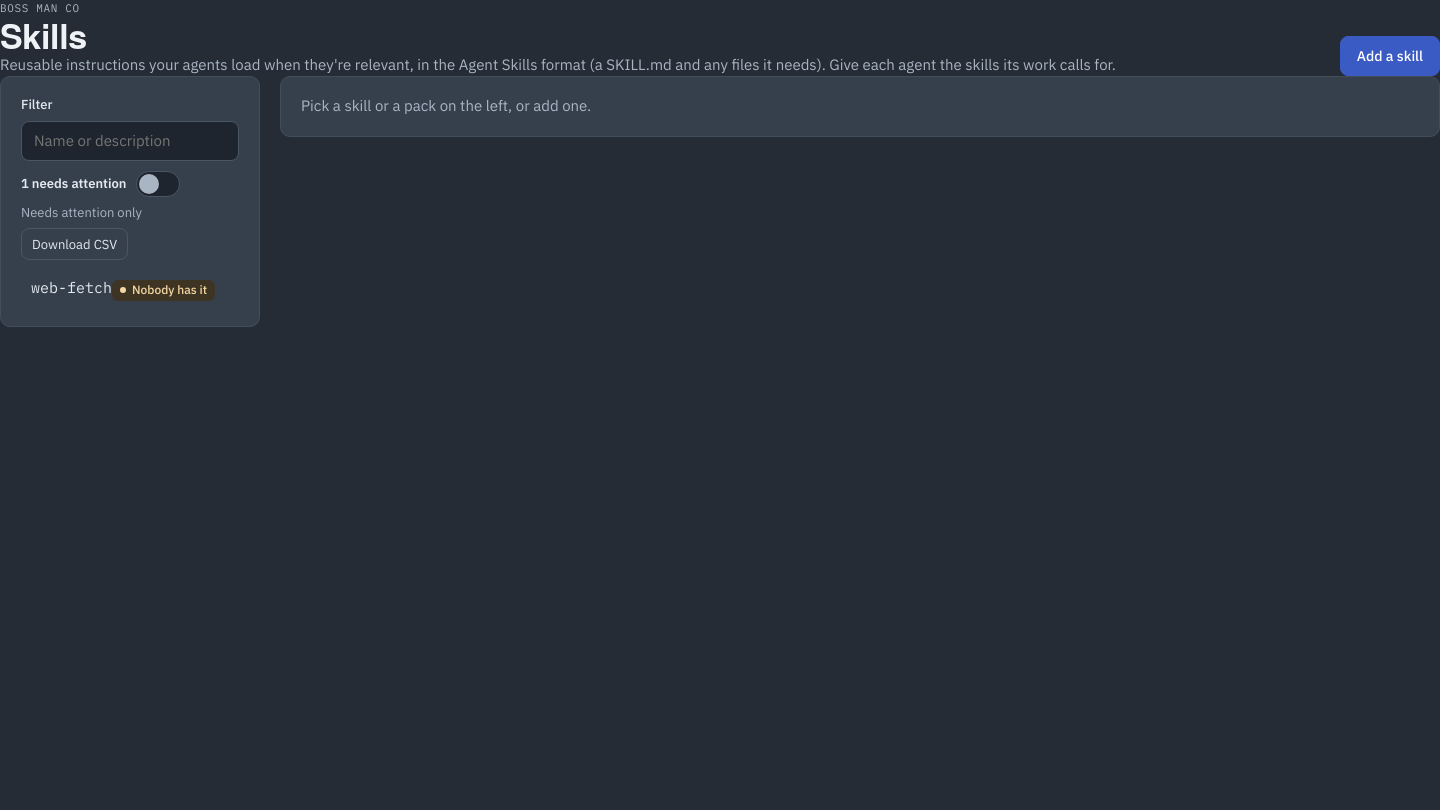
it: skills › asks before replacing real instructions with an empty box, and sends confirmation only when allowed
Click the link "web-fetch Nobody has it": (123, 290) [31,278,215,301]
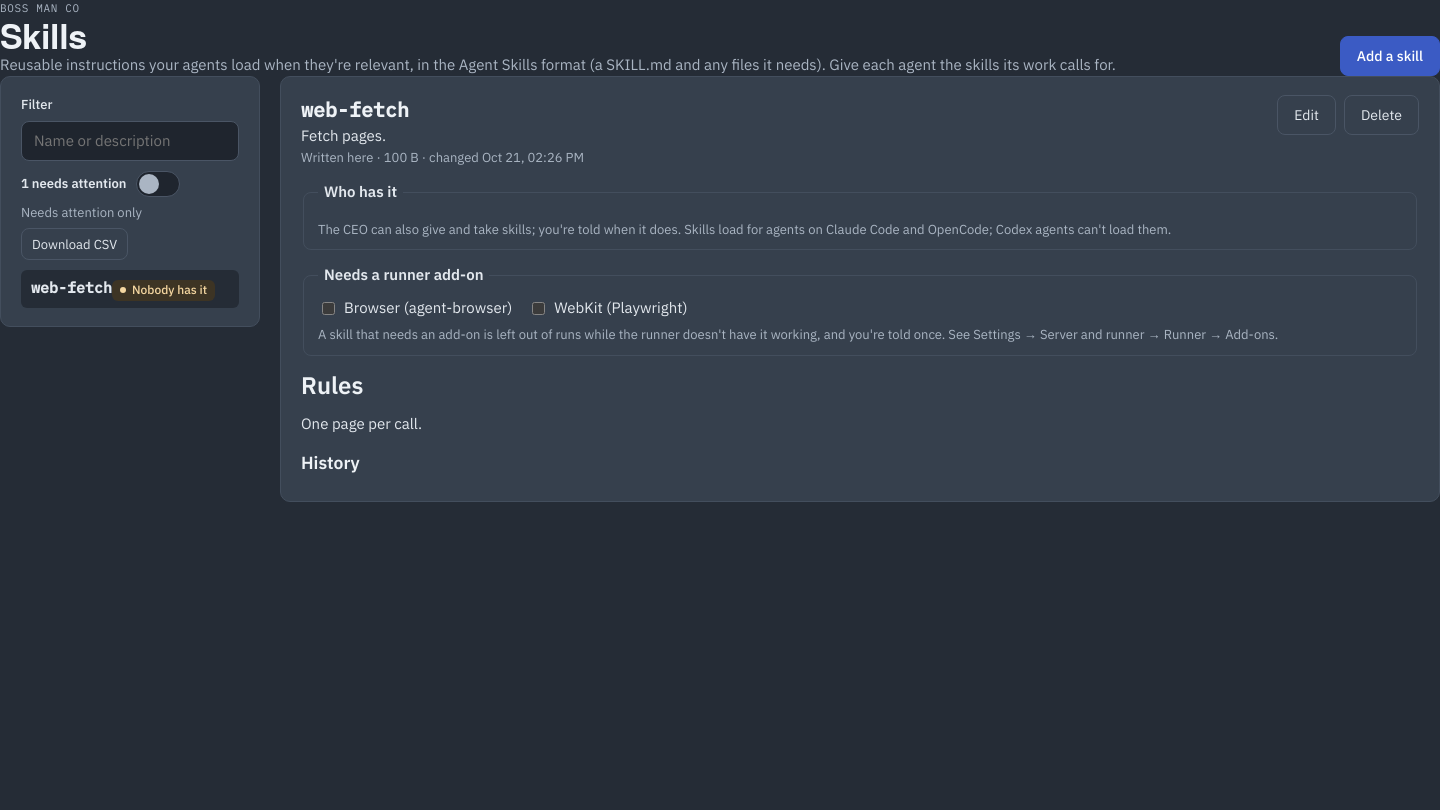
Click the button "Edit": (1307, 115) [1277,95,1336,135]
(page scrolled)
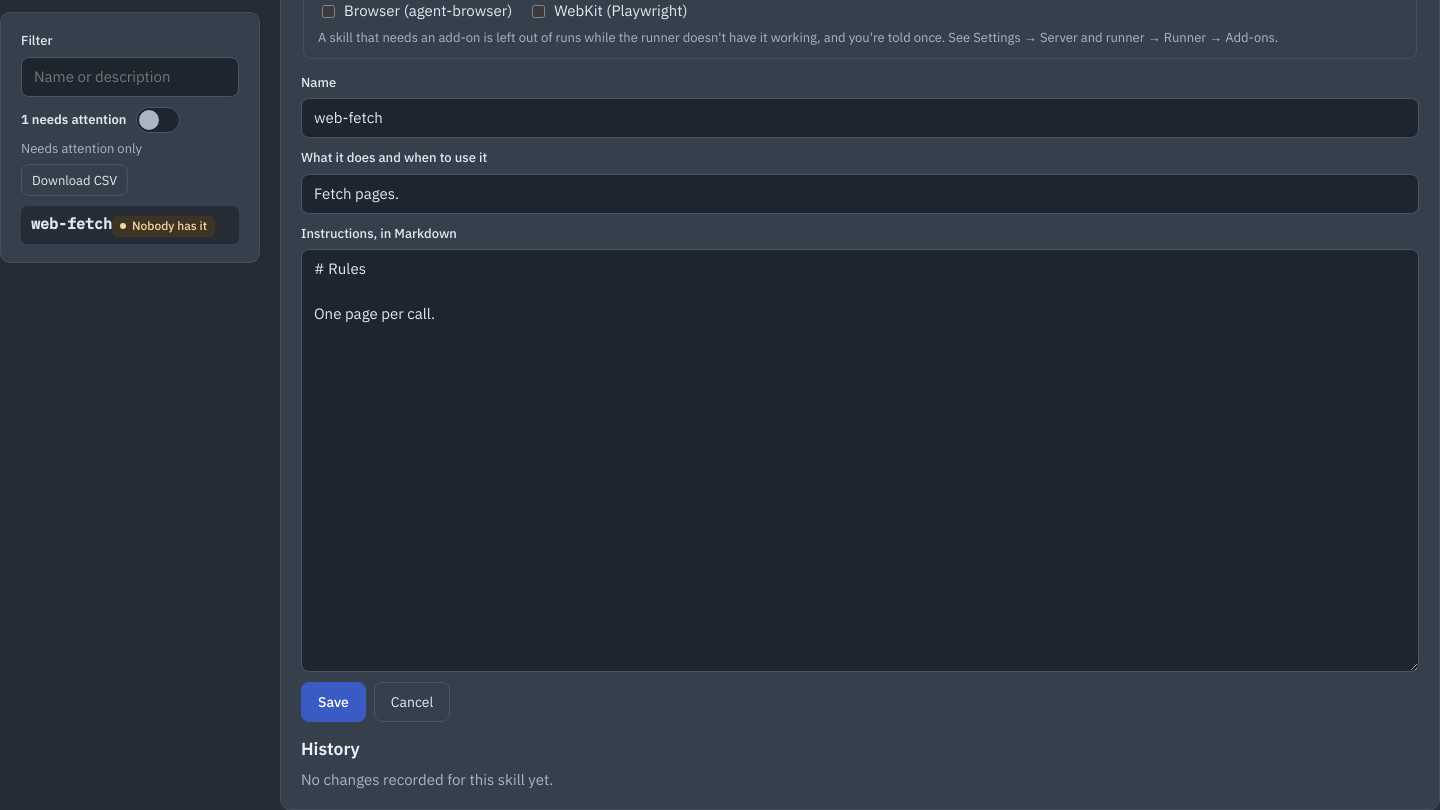
Clear the text box labelled "Instructions, in Markdown": (860, 461) [301,249,1419,672]
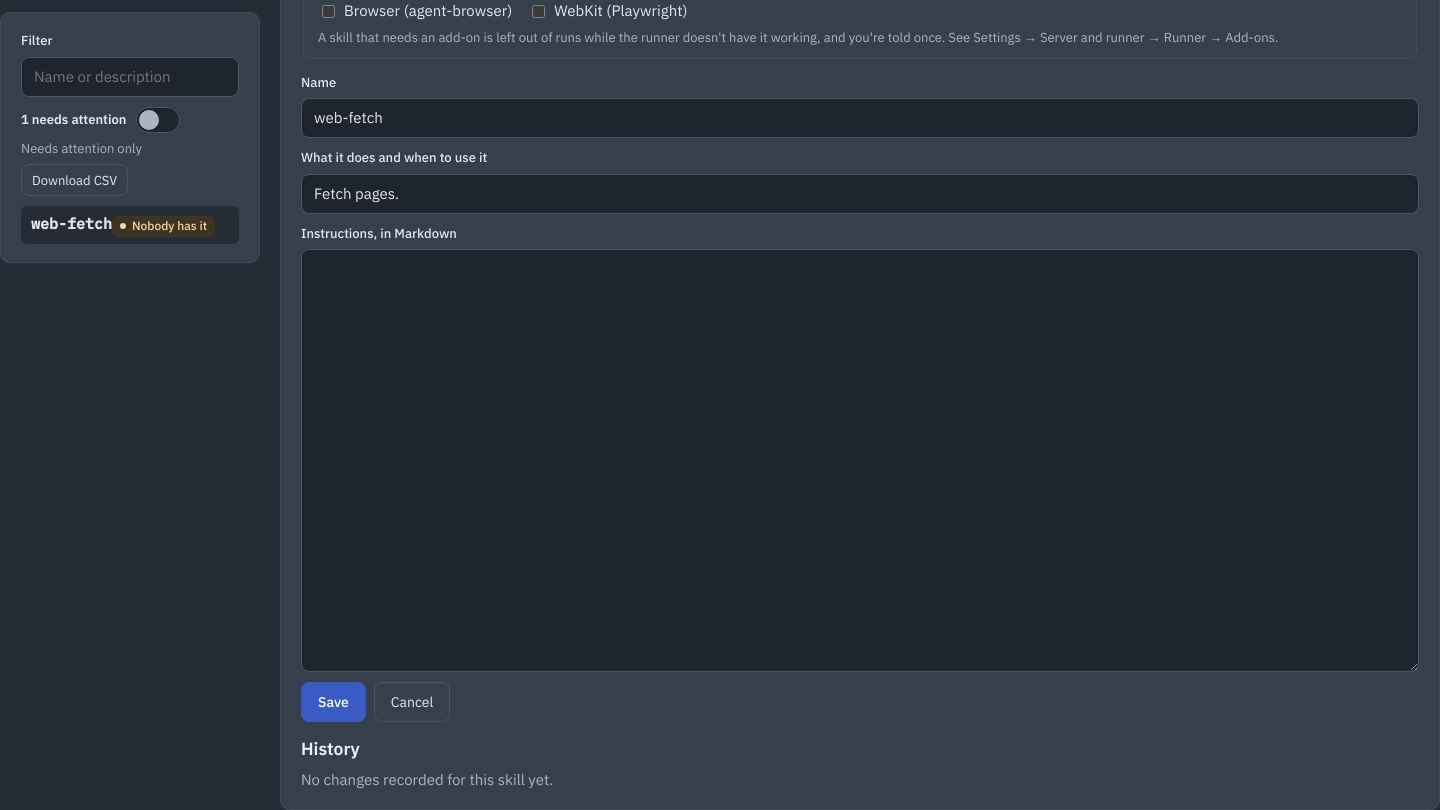
Click the button "Save": (333, 702) [301,682,366,722]
(page scrolled)
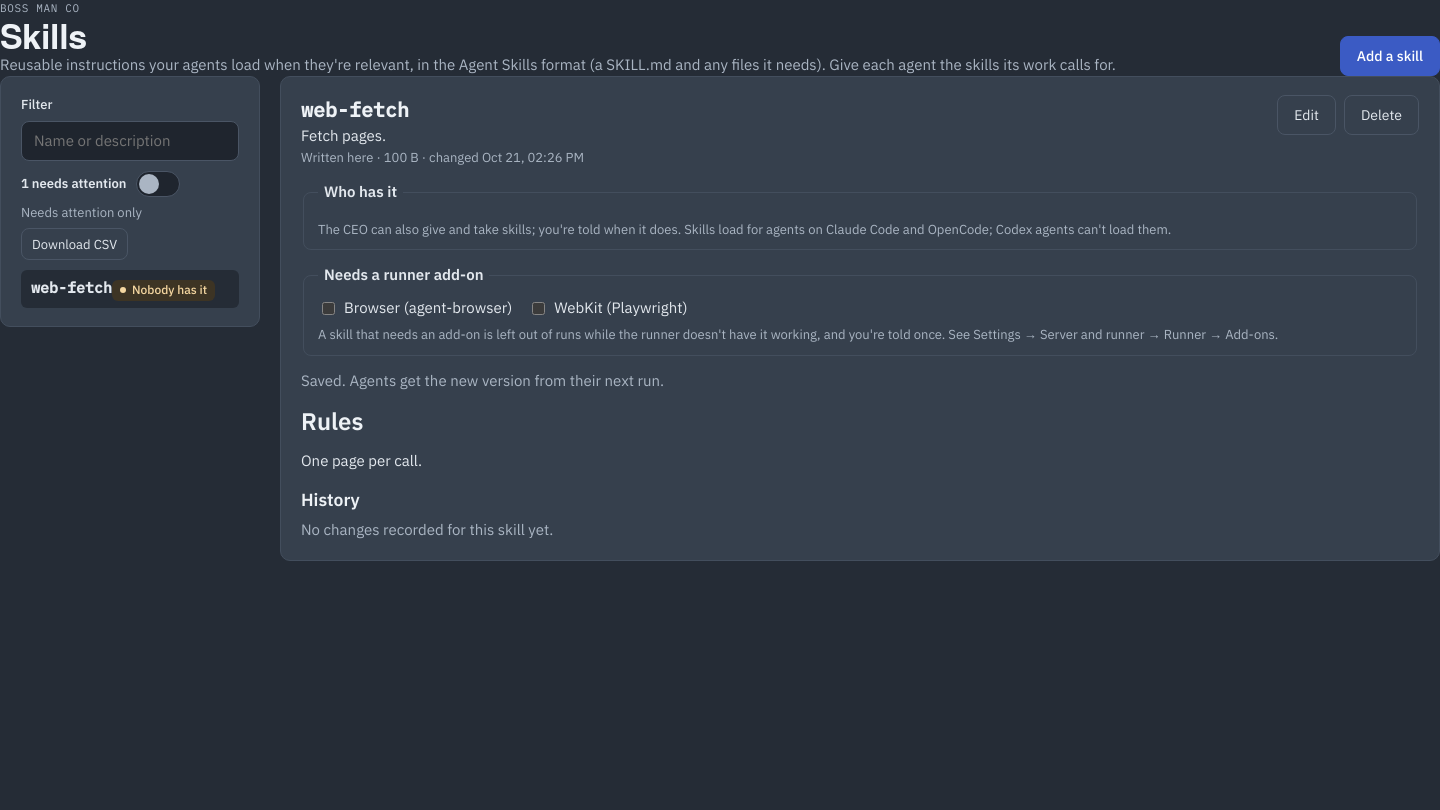
Now the text "Saved. Agents get the new version from their next run." is shown, box [301,371,664,390]
